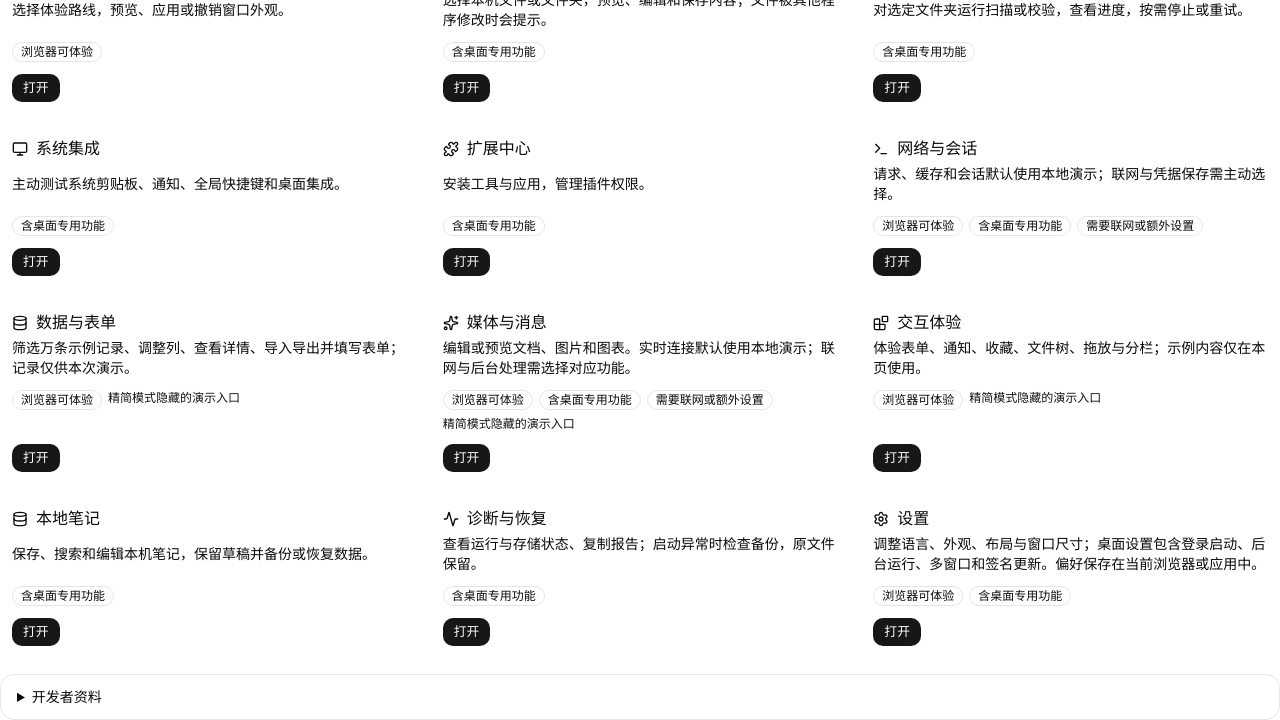
Scenario: zh 能力目录将混合示例按语言着色并保留完整源码
The width and height of the screenshot is (1280, 720).
(page scrolled)
What coordinates should you click on to do the following:
click the heading "开发者资料"
I would click on:
 (67, 697)
Its box is [1,674,1279,718].
(page scrolled)
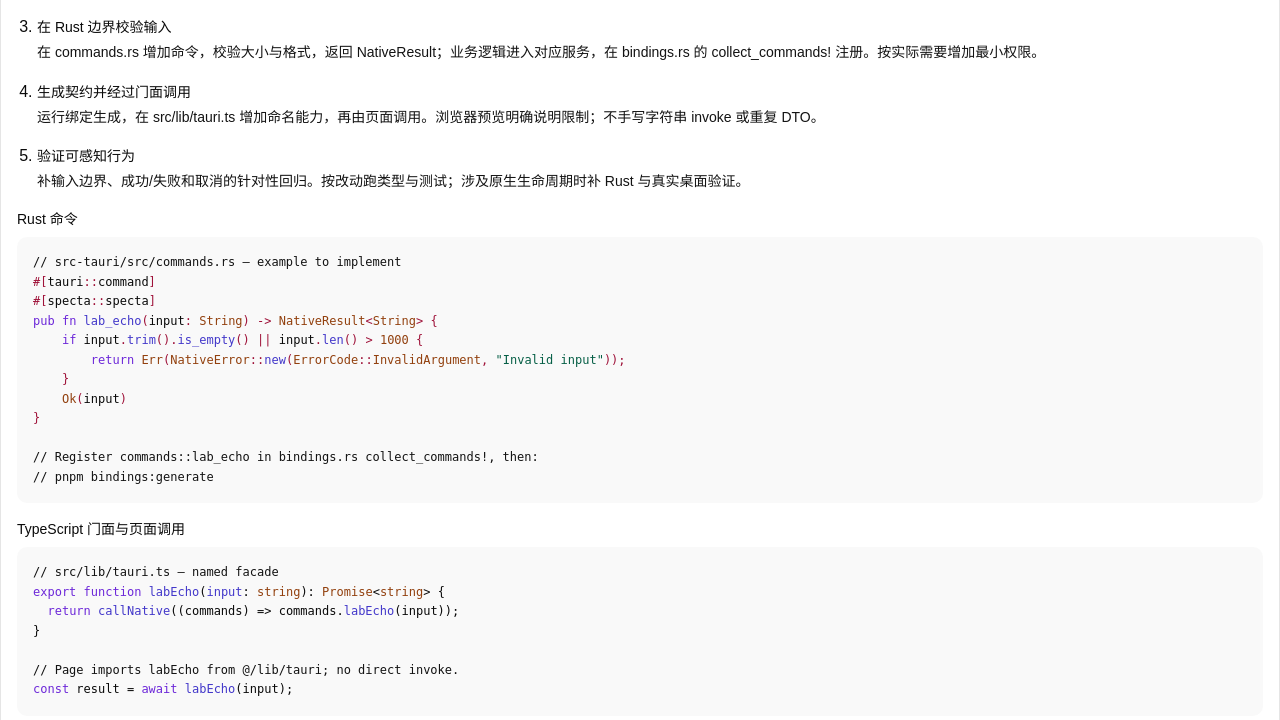
Expected: the text "pub" is shown, [33,314,55,328]
Expected: the text "lab_echo" is shown, [84,314,141,328]
Expected: the 1st text "String" is shown, [199,314,243,328]
